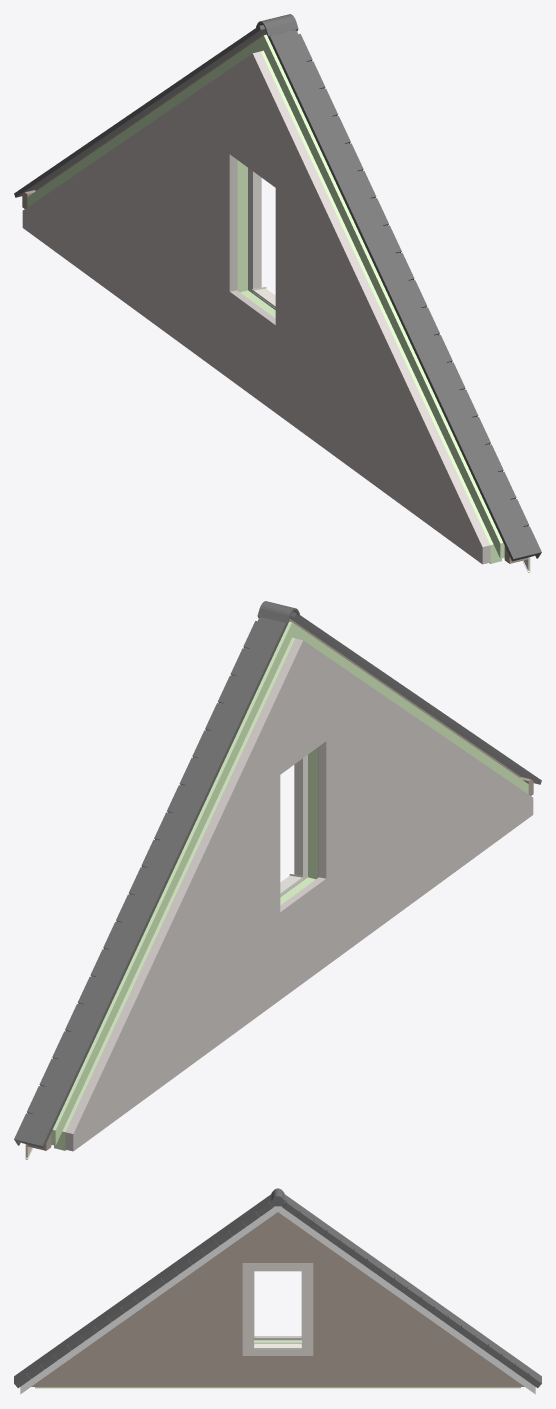
3 renders of one model, top to bottom at view 1: azimuth 30°, elevation 25°; view 2: azimuth 150°, elevation 25°; view 3: azimuth 270°, elevation 25°, orthographic. The views are drawn at different scales.
Parts seen in each view (by area): view 1: [8896763]21_prefab betonwand 90mm, [8896759]windveer_Samenstelling_52graden, [8896753]27_Minerale wol 130mm, [8896739]21_isolatie 131mm, [8896892]21_Metselwerk Wit HV WF 100 mm, Aberson 35N17, [8896891]21_Metselwerk Sonsbeek 100mm, Aberson 48N13; view 2: [8896763]21_prefab betonwand 90mm, [8896759]windveer_Samenstelling_52graden, [8896753]27_Minerale wol 130mm, [8896739]21_isolatie 131mm, [8896893]21_Metselwerk Wit HV WF 100 mm, Aberson 35N17, [8896891]21_Metselwerk Sonsbeek 100mm, Aberson 48N13; view 3: [8896891]21_Metselwerk Sonsbeek 100mm, Aberson 48N13, [8896759]windveer_Samenstelling_52graden, [8896739]21_isolatie 131mm, [8896892]21_Metselwerk Wit HV WF 100 mm, Aberson 35N17, [8896893]21_Metselwerk Wit HV WF 100 mm, Aberson 35N17, [8896895]21_Metselwerk Wit HV WF 100 mm, Aberson 35N17 Rolla, [8896894]21_Metselwerk Wit HV WF 100 mm, Aberson 35N17 Rolla, [8896762]Merk G_Waterslag, [8896763]21_prefab betonwand 90mm.
Part boxes in pixels (x1=…): [8896763]21_prefab betonwand 90mm: x1=22, y1=51, x2=490, y2=564; [8896759]windveer_Samenstelling_52graden: x1=14, y1=14, x2=541, y2=572; [8896753]27_Minerale wol 130mm: x1=27, y1=34, x2=504, y2=558; [8896739]21_isolatie 131mm: x1=237, y1=50, x2=501, y2=563; [8896892]21_Metselwerk Wit HV WF 100 mm, Aberson 35N17: x1=248, y1=168, x2=261, y2=291; [8896891]21_Metselwerk Sonsbeek 100mm, Aberson 48N13: x1=35, y1=32, x2=528, y2=561; [8896763]21_prefab betonwand 90mm: x1=65, y1=638, x2=533, y2=1151; [8896759]windveer_Samenstelling_52graden: x1=14, y1=601, x2=541, y2=1159; [8896753]27_Minerale wol 130mm: x1=51, y1=621, x2=528, y2=1145; [8896739]21_isolatie 131mm: x1=54, y1=637, x2=318, y2=1150; [8896893]21_Metselwerk Wit HV WF 100 mm, Aberson 35N17: x1=294, y1=755, x2=307, y2=878; [8896891]21_Metselwerk Sonsbeek 100mm, Aberson 48N13: x1=27, y1=619, x2=520, y2=1148; [8896891]21_Metselwerk Sonsbeek 100mm, Aberson 48N13: x1=31, y1=1212, x2=524, y2=1386; [8896759]windveer_Samenstelling_52graden: x1=14, y1=1188, x2=541, y2=1394; [8896739]21_isolatie 131mm: x1=35, y1=1340, x2=520, y2=1388; [8896892]21_Metselwerk Wit HV WF 100 mm, Aberson 35N17: x1=302, y1=1271, x2=313, y2=1347; [8896893]21_Metselwerk Wit HV WF 100 mm, Aberson 35N17: x1=242, y1=1271, x2=253, y2=1347; [8896895]21_Metselwerk Wit HV WF 100 mm, Aberson 35N17 Rolla: x1=242, y1=1263, x2=313, y2=1271; [8896894]21_Metselwerk Wit HV WF 100 mm, Aberson 35N17 Rolla: x1=242, y1=1345, x2=313, y2=1355; [8896762]Merk G_Waterslag: x1=254, y1=1342, x2=301, y2=1349; [8896763]21_prefab betonwand 90mm: x1=254, y1=1271, x2=301, y2=1340.
Size of the model in its own units: 0.447 by 4.08 by 9.78.
